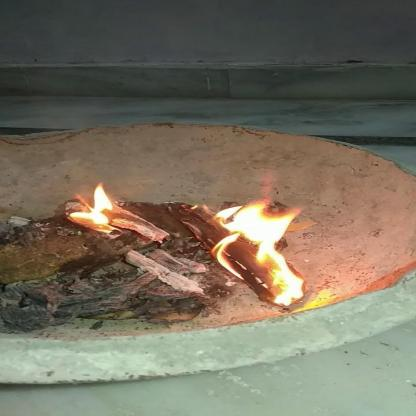fire: (183, 167, 336, 311), (56, 180, 138, 238)
